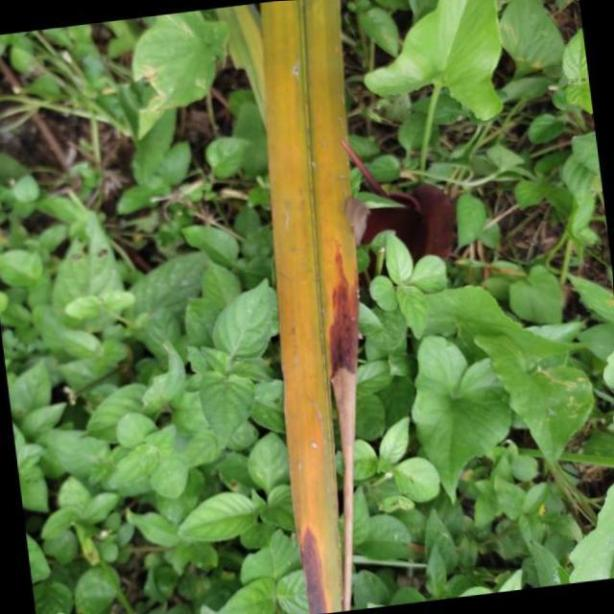Megnesium: (262, 0, 362, 614)
